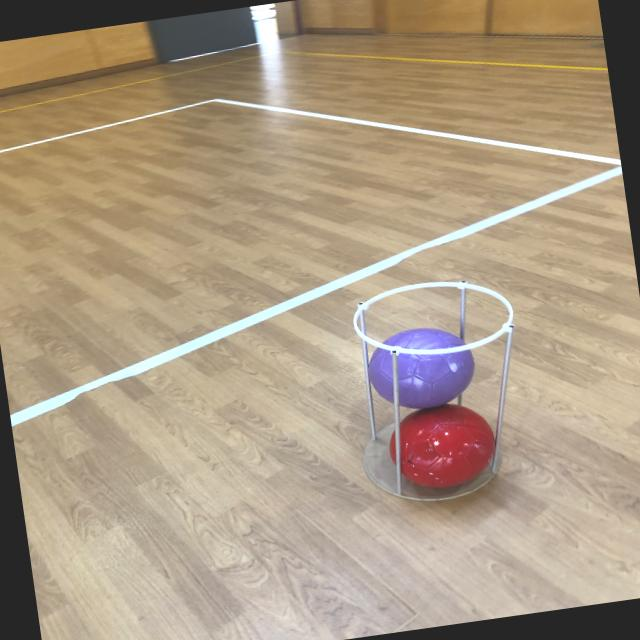purple_ball: (365, 322, 479, 412)
red_ball: (386, 394, 510, 499)
